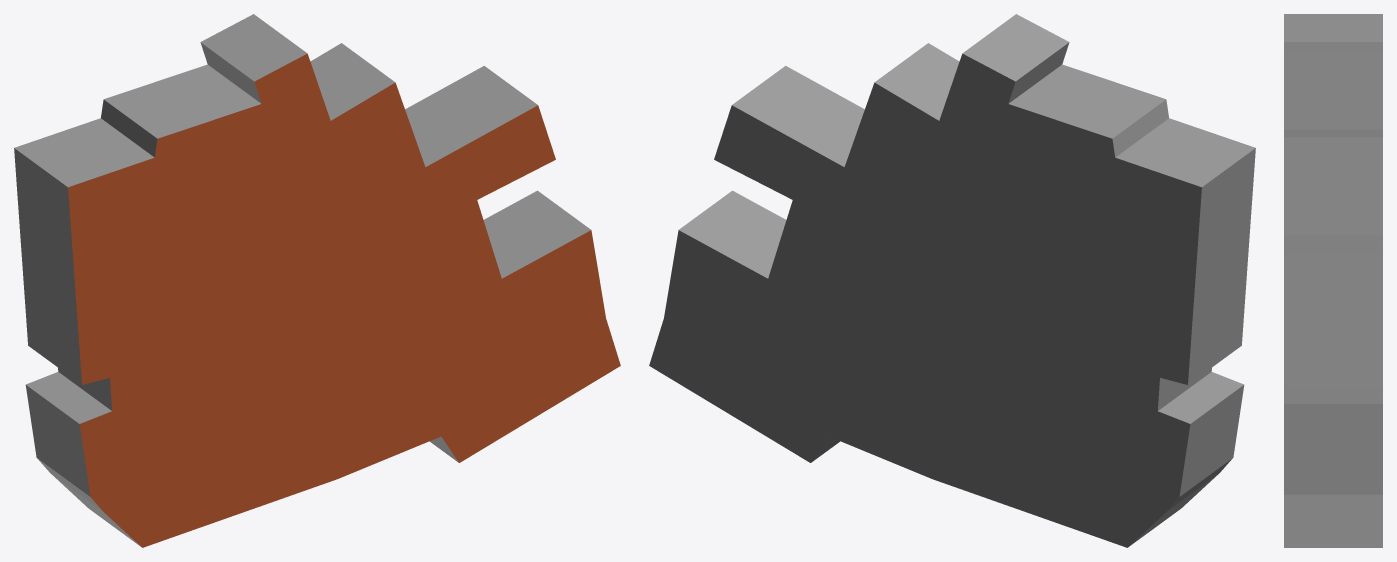
File: construction_3136_assumed_A_Casa_h6m.obj
3 renders of one model, left to right at view 1: azimuth 30°, elevation 25°; view 2: azimuth 150°, elevation 25°; view 3: azimuth 270°, elevation 25°, orthographic. The views are drawn at different scales.
Parts seen in each view (by area): view 1: construction_3136_assumed_A_Casa; view 2: construction_3136_assumed_A_Casa; view 3: construction_3136_assumed_A_Casa.
Boxes of the visible parts, x1=… form: construction_3136_assumed_A_Casa: x1=14, y1=14, x2=620, y2=547; construction_3136_assumed_A_Casa: x1=649, y1=14, x2=1255, y2=547; construction_3136_assumed_A_Casa: x1=1284, y1=14, x2=1382, y2=547.
Bounding box in the file's own units: 35.51 × 27.88 × 6.
